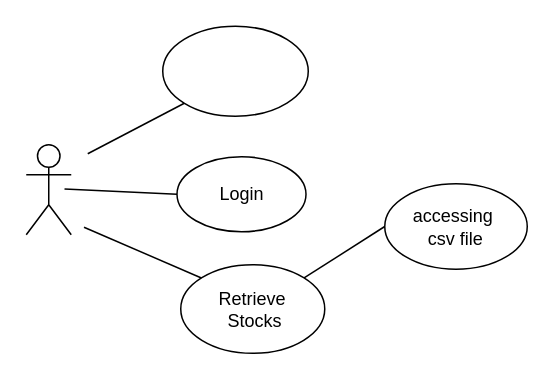
This 554x380 diagram has some shape labels left out. The centre of each missing label's shape, as x and y in pixels:
Create Account: point 234,70
User: point 48,189
